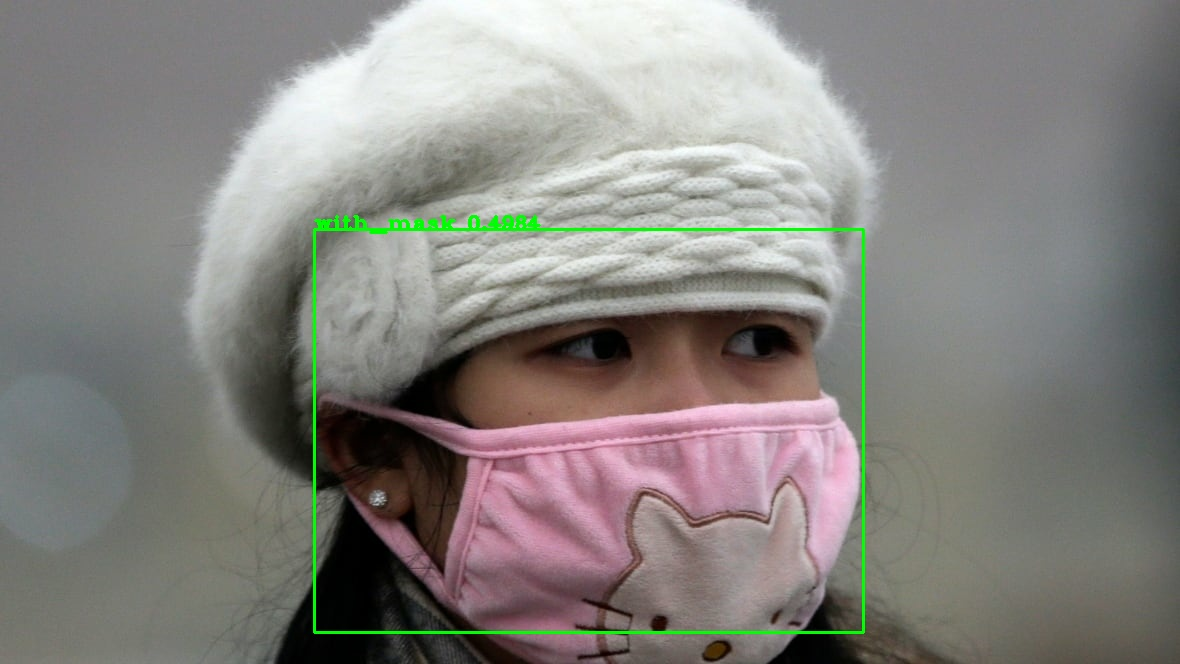with_mask: (304, 269, 877, 660)
